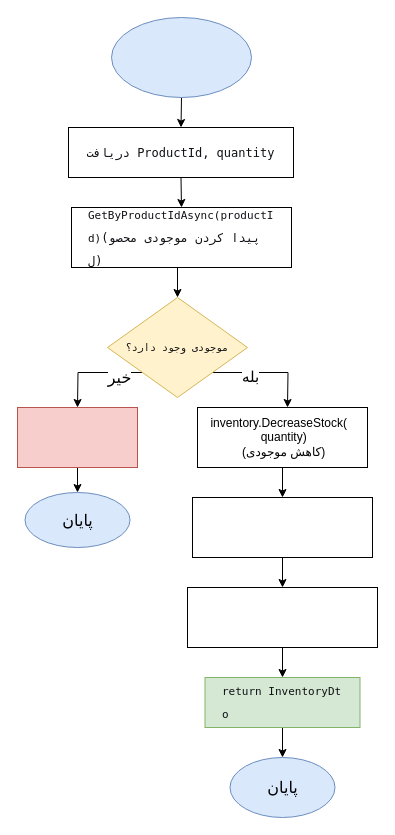
Image size: 395x835. Some labels were removed from this diagram. Here are the shapes that lost their labels. From the top down, the box of each, then its label:
(110, 16, 252, 98): شروع DecreaseStockAsync
(16, 406, 138, 468): throw NotFound Exception
(192, 496, 372, 558): UpdateAsync(inventory) (ذخیره در دیتابیس)
(186, 586, 378, 648): MapToDto(inventory) (تبدیل به DTO)
